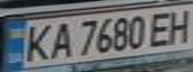0: (127, 11, 151, 50)
6: (93, 16, 115, 54)
7: (75, 17, 96, 56)
8: (112, 14, 133, 52)
A: (48, 19, 75, 60)
E: (145, 9, 175, 47)
H: (163, 6, 193, 44)
K: (18, 20, 54, 63)
